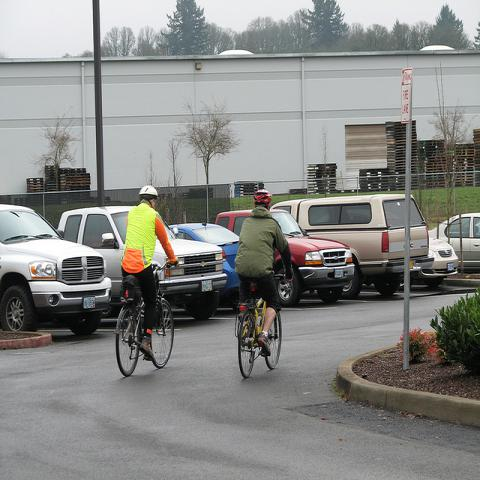car: (169, 222, 240, 310), (427, 212, 479, 273), (419, 238, 462, 283)
truck: (57, 206, 227, 321), (270, 193, 435, 300), (0, 202, 115, 336), (217, 207, 354, 306)
